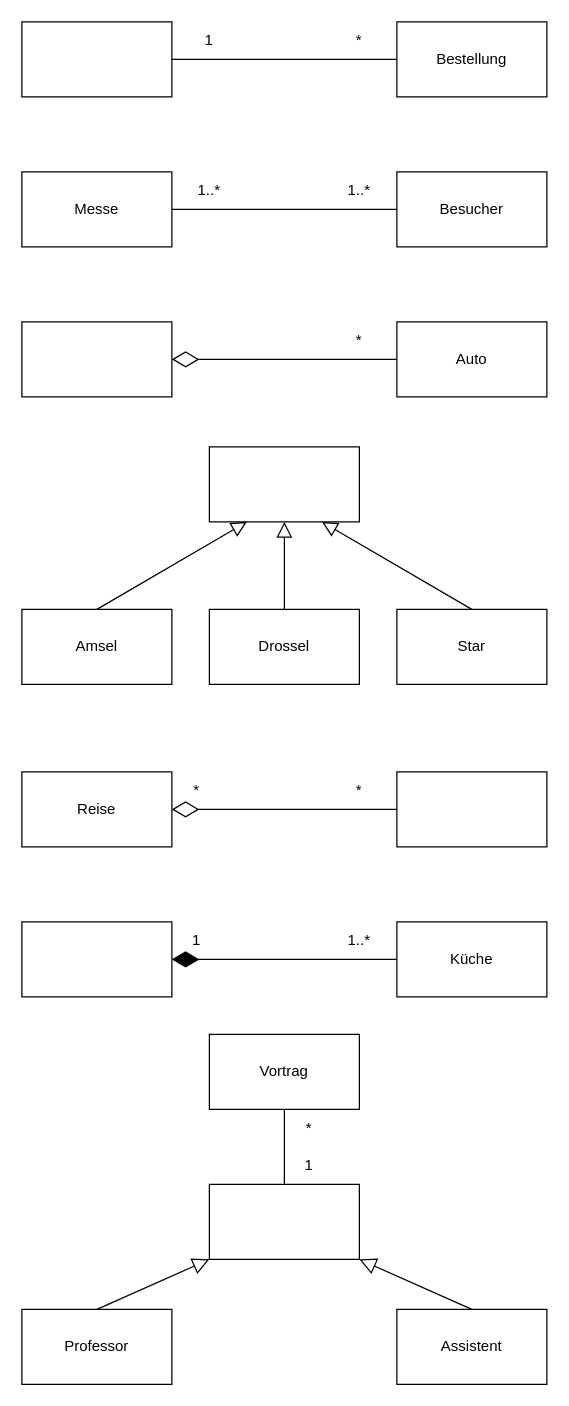
The diagram is 569 pixels wide and 1406 high, and some of its shapes have lost their labels. The box of each missing label's shape, as (x1, y1, x2, y2) in pixels:
Ausflug: (396, 771, 547, 847)
Flotte: (21, 321, 172, 397)
Kellner: (21, 21, 172, 97)
Mitarbeiter: (208, 1183, 359, 1259)
Restaurant: (21, 921, 172, 997)
Vogel: (208, 446, 359, 522)
